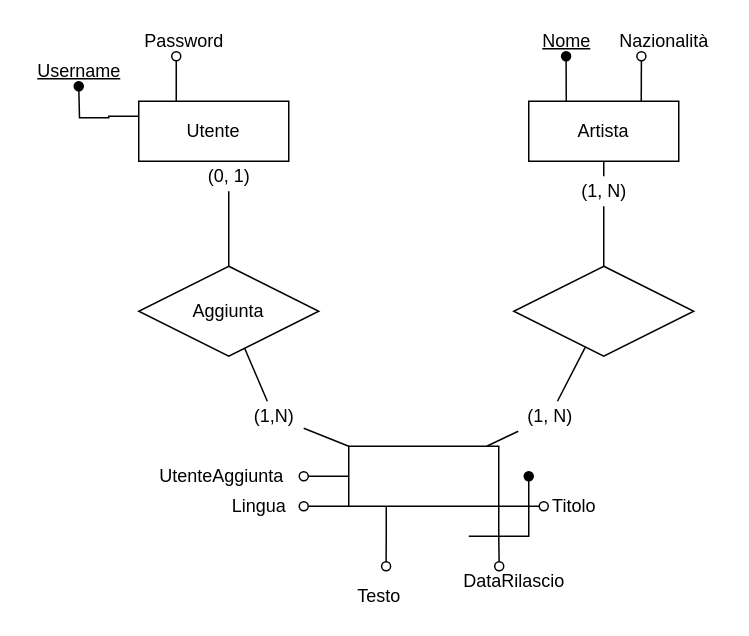
The diagram is 749 pixels wide and 636 high, and some of its shapes have lost their labels. The shapes that lost their labels are listed below. From the top down, each one's centre as x and y in pixels, then its label:
[603,310]: Esecuzione
[423,475]: Canzone
